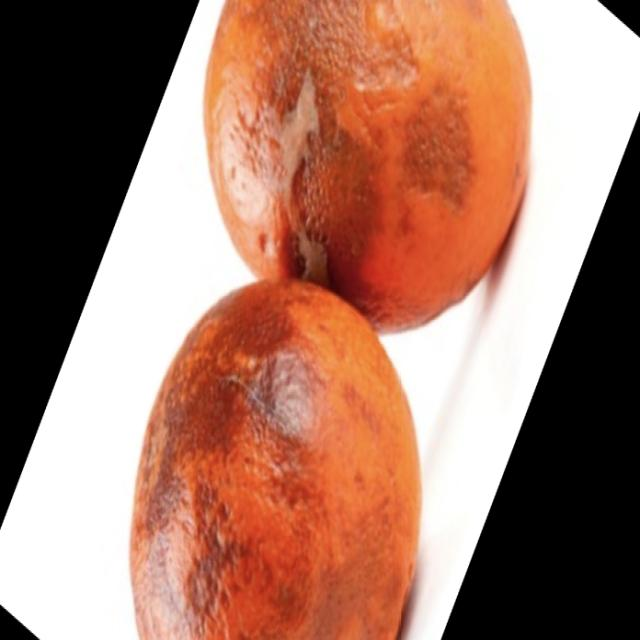sedikit_busuk: (209, 0, 527, 339), (133, 278, 418, 639)
